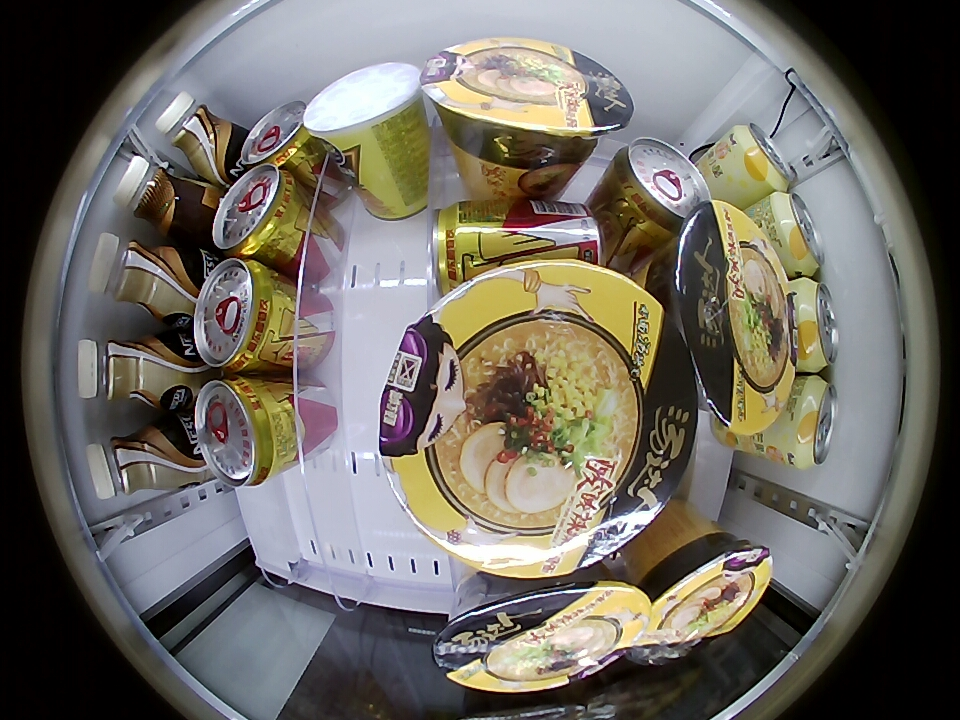dongpeng: (192, 376, 287, 488), (192, 258, 283, 373), (609, 136, 710, 235), (211, 165, 300, 259), (241, 101, 315, 170), (433, 200, 473, 296)
kafei: (89, 234, 193, 323), (113, 157, 211, 240), (76, 336, 186, 409), (85, 422, 187, 498), (155, 94, 238, 179)
kebike: (303, 62, 425, 154)
mangguoxiaolao: (784, 375, 838, 469), (769, 191, 824, 276), (791, 278, 839, 372), (730, 124, 795, 191)
tangdaren2: (379, 257, 694, 577), (669, 202, 793, 436), (421, 37, 634, 165), (432, 573, 651, 693), (635, 531, 772, 662)
